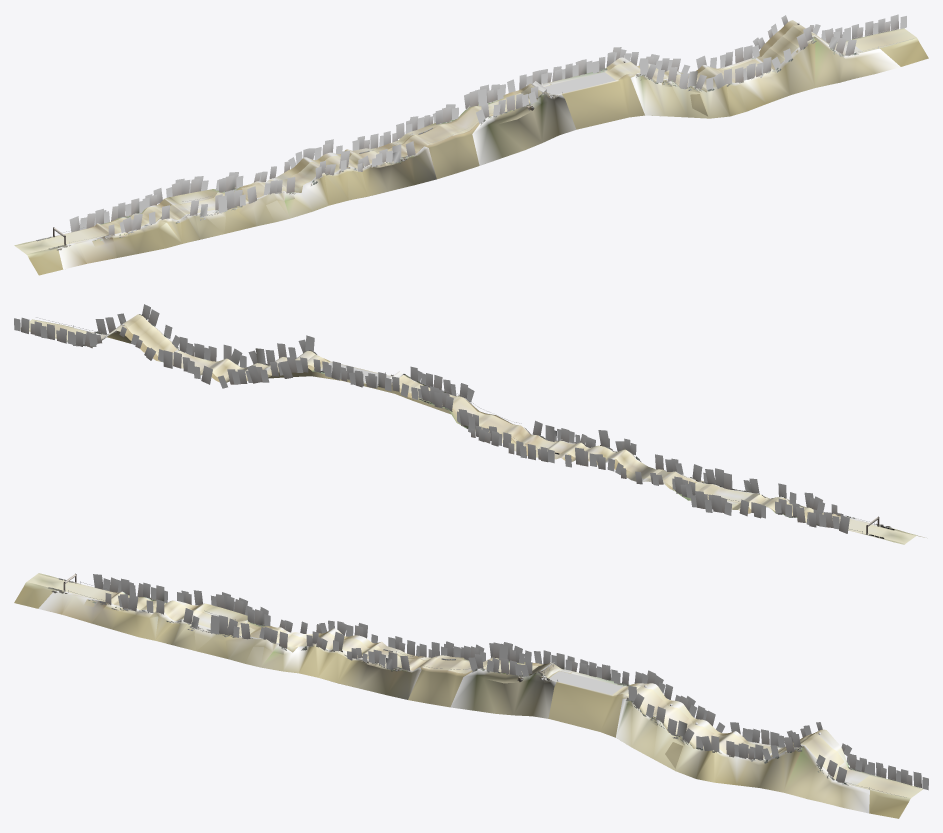
The model's file is Beach_05.fbx.
The picture shows the model from 3 angles, top to bottom: view 1: azimuth 30°, elevation 25°; view 2: azimuth 150°, elevation 25°; view 3: azimuth 330°, elevation 25°; orthographic projection.
Parts seen in each view (by area): view 1: Mountain_01, Tree_01, Road_01, Ground_01, Sea_01; view 2: Tree_01, Ground_01, Road_01; view 3: Mountain_01, Tree_01, Road_01, Ground_01, Sea_01.
Part boxes in pixels (left/top/right/bottom): Mountain_01: left=58, top=35, right=900, bottom=269; Tree_01: left=57, top=14, right=906, bottom=250; Road_01: left=14, top=20, right=928, bottom=275; Ground_01: left=15, top=25, right=915, bottom=254; Sea_01: left=544, top=72, right=615, bottom=94; Tree_01: left=14, top=304, right=891, bottom=533; Ground_01: left=29, top=314, right=915, bottom=543; Road_01: left=20, top=319, right=924, bottom=544; Mountain_01: left=38, top=590, right=869, bottom=813; Tree_01: left=51, top=574, right=928, bottom=790; Road_01: left=14, top=573, right=923, bottom=818; Ground_01: left=27, top=574, right=921, bottom=797; Sea_01: left=549, top=671, right=622, bottom=694.
Size of the model in its own units: 55417 by 3973 by 4205.
